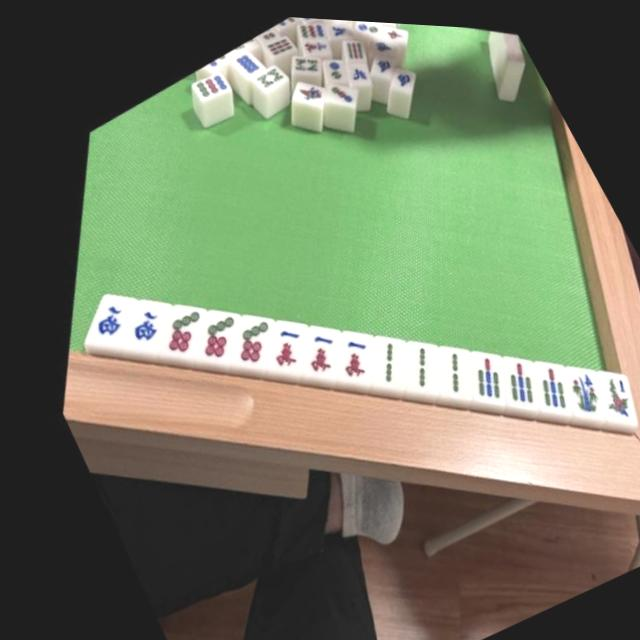bf1: (573, 351, 640, 428)
bf4: (538, 344, 615, 423)
hww: (59, 275, 133, 350), (97, 282, 168, 355)
sb2: (340, 317, 414, 393), (411, 328, 484, 403), (374, 322, 447, 397)
sb7: (476, 336, 551, 413), (443, 331, 518, 408), (509, 342, 582, 417)
sc1: (308, 311, 383, 388), (275, 308, 347, 382), (238, 303, 310, 376)
sd7: (128, 285, 209, 368), (165, 289, 245, 371), (202, 295, 278, 374)
